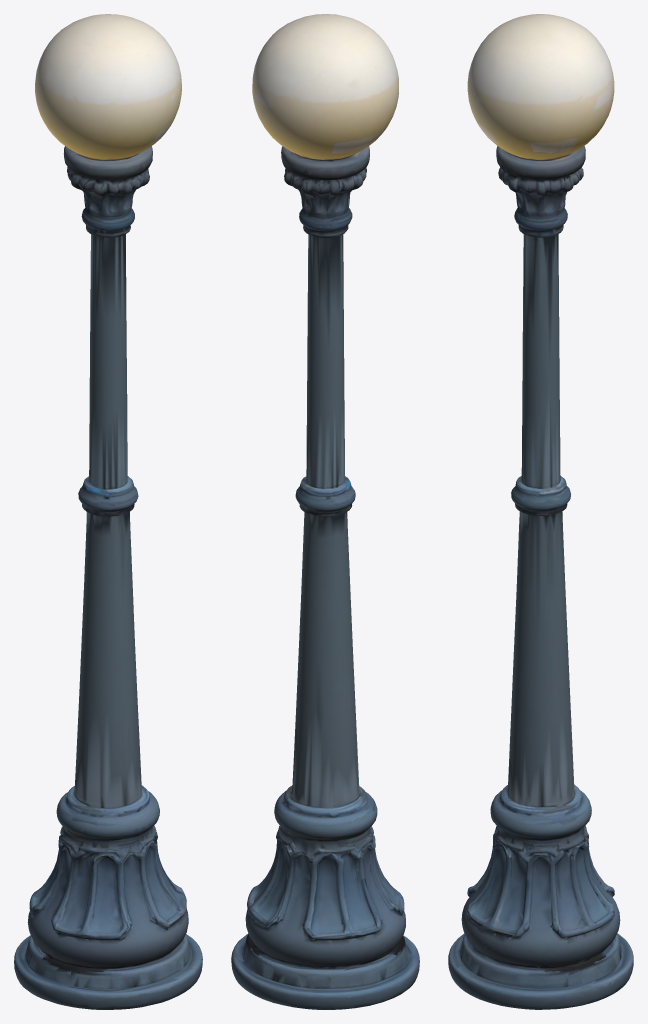
The model's file is lampu-jalan.glb.
3 renders of one model, left to right at view 1: azimuth 30°, elevation 25°; view 2: azimuth 150°, elevation 25°; view 3: azimuth 270°, elevation 25°, orthographic.
Parts seen in each view (by area): view 1: node_0; view 2: node_0; view 3: node_0.
Part boxes in pixels (<box>): node_0: <box>14,14,202,1009</box>; node_0: <box>231,14,419,1009</box>; node_0: <box>448,14,633,1009</box>.
Size of the model in its own units: 0.2144 by 1.18 by 0.2093.
1 material, 1 textured.
